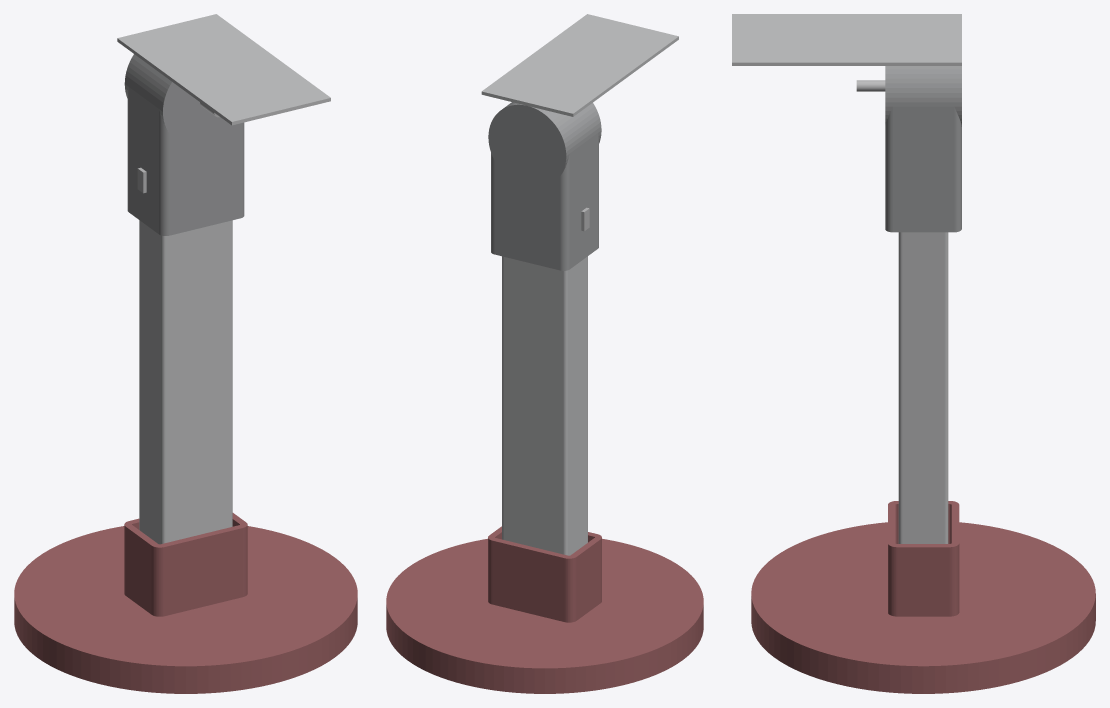
Rendered from minste.glb.
3 renders of one model, left to right at view 1: azimuth 30°, elevation 25°; view 2: azimuth 150°, elevation 25°; view 3: azimuth 270°, elevation 25°, orthographic. The views are drawn at different scales.
Parts seen in each view (by area): view 1: print_fot_fot, sett_arm_profil, sett_arm_kappe, kjopt_plate_plate; view 2: print_fot_fot, sett_arm_profil, sett_arm_kappe, kjopt_plate_plate; view 3: print_fot_fot, sett_arm_profil, sett_arm_kappe, kjopt_plate_plate.
Part boxes in pixels (<box>): print_fot_fot: <box>14,513,357,693</box>; sett_arm_profil: <box>139,220,232,544</box>; sett_arm_kappe: <box>124,54,244,235</box>; kjopt_plate_plate: <box>117,14,330,125</box>; print_fot_fot: <box>386,526,703,693</box>; sett_arm_profil: <box>502,256,587,555</box>; sett_arm_kappe: <box>488,102,601,270</box>; kjopt_plate_plate: <box>481,14,678,116</box>; print_fot_fot: <box>751,501,1095,693</box>; sett_arm_profil: <box>898,232,948,543</box>; sett_arm_kappe: <box>885,66,961,232</box>; kjopt_plate_plate: <box>732,14,961,65</box>.
Bounding box in the file's own units: 0.18 × 0.336 × 0.19.
